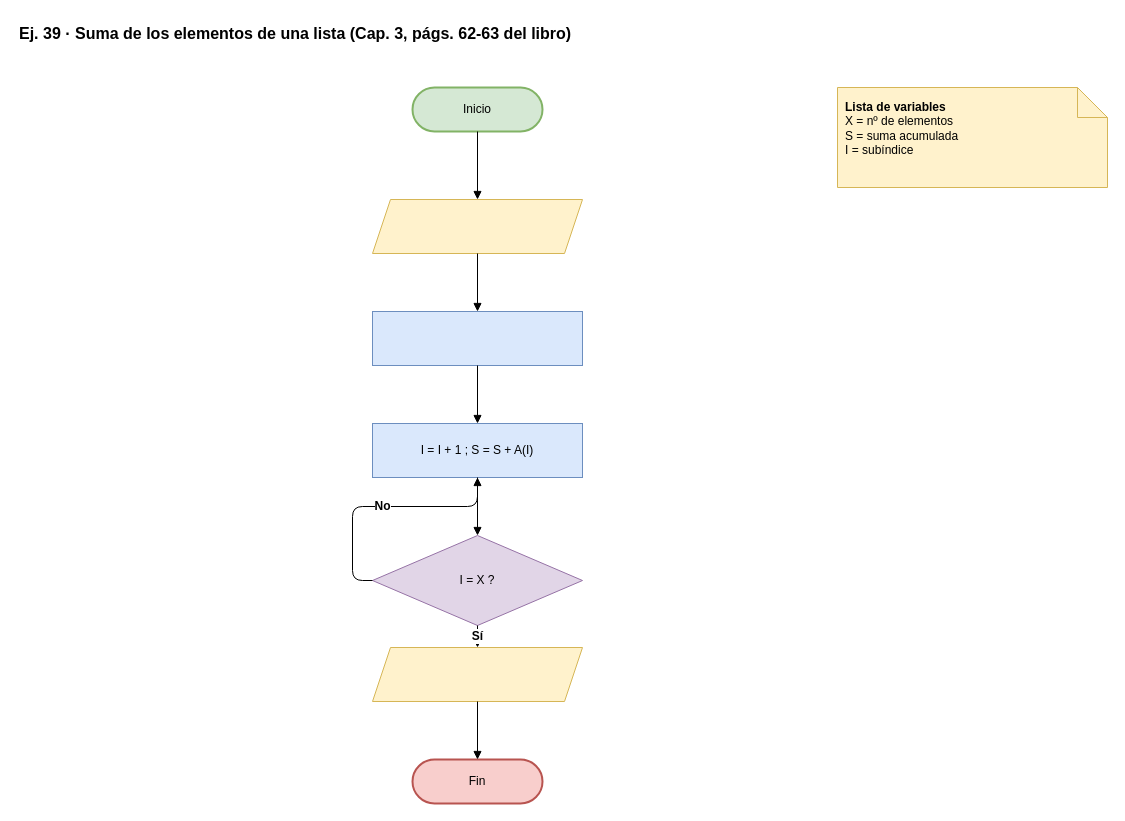
Some shapes in this 1125 by 821 pixel diagram are drawn without their labels. The shapes that lost their labels are listed below. From the top down, each one's centre as x and y in pixels, then its label:
At point (477, 226): "Leer X y A(1..X)".
At point (477, 338): "S = 0 ; I = 0".
At point (477, 674): "Escribir S".
